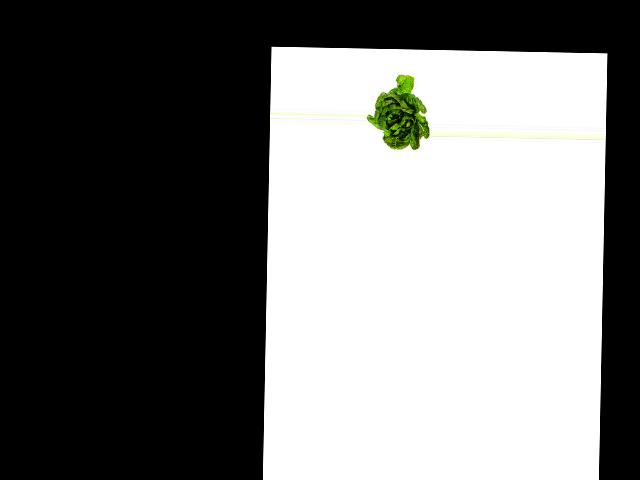lettuce: (366, 71, 428, 151)
